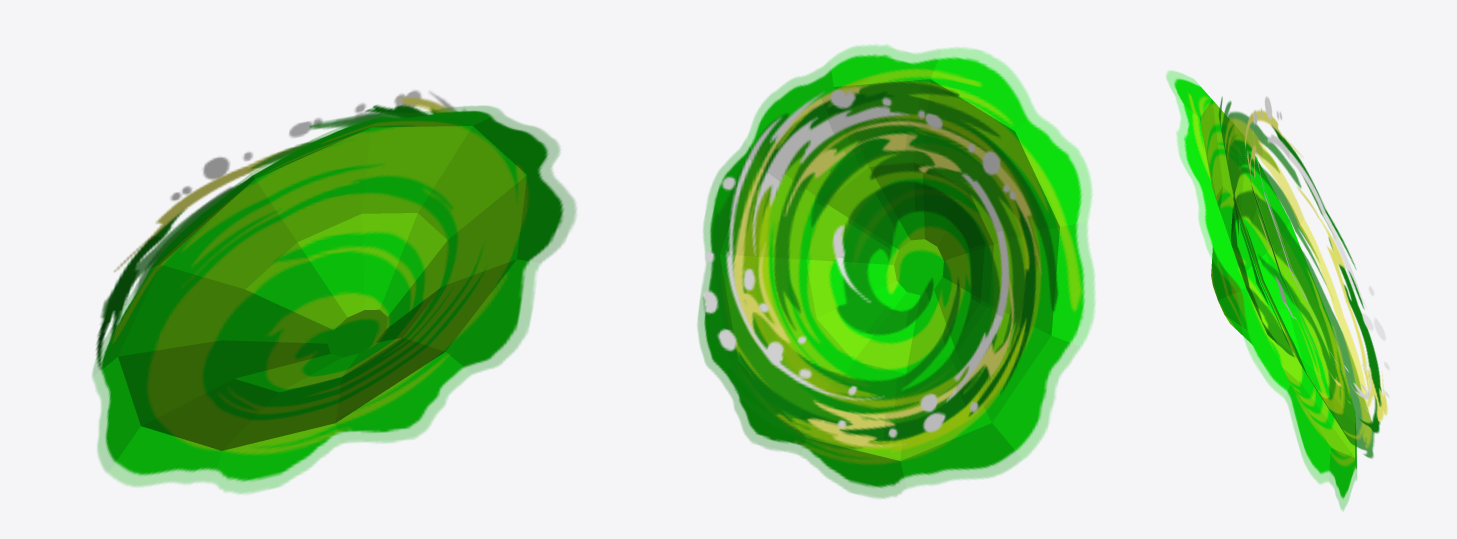
Rendered from Portal.gltf.
3 views of the same model, side by side, from view 1: azimuth 30°, elevation 25°; view 2: azimuth 150°, elevation 25°; view 3: azimuth 270°, elevation 25° (orthographic). The views are drawn at different scales.
Parts seen in each view (by area): view 1: Part1, Part3, Part2, Part4; view 2: Part1, Part2, Part3, Part4; view 3: Part1, Part2, Part3, Part4.
Boxes of the visible parts, left/top/right/bottom form: Part1: left=92, top=106, right=576, bottom=493; Part3: left=96, top=96, right=453, bottom=368; Part2: left=100, top=105, right=443, bottom=318; Part4: left=133, top=90, right=466, bottom=296; Part1: left=697, top=45, right=1094, bottom=498; Part2: left=703, top=78, right=1058, bottom=452; Part3: left=733, top=85, right=1041, bottom=447; Part4: left=702, top=89, right=1016, bottom=438; Part1: left=1166, top=71, right=1356, bottom=510; Part2: left=1218, top=96, right=1374, bottom=458; Part3: left=1242, top=109, right=1387, bottom=433; Part4: left=1252, top=96, right=1389, bottom=415.
Bounding box in the file's own units: 2.95 × 2.91 × 1.68.
Materials: 1 (1 with a texture image).
